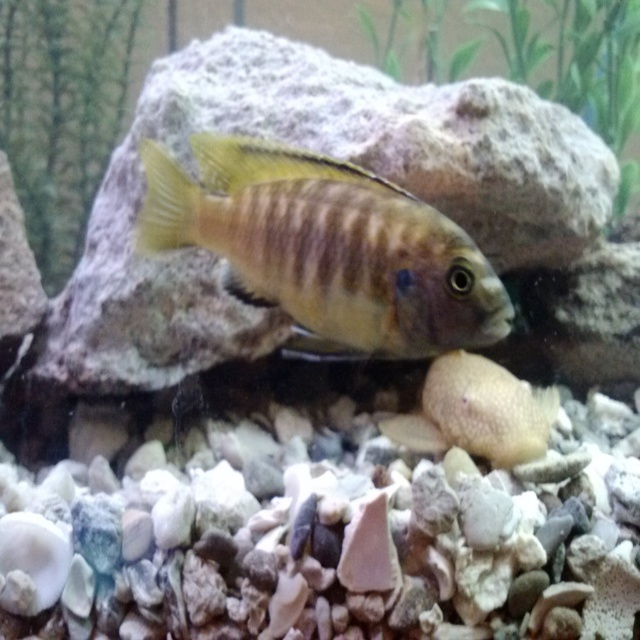Fish: (141, 121, 525, 402)
